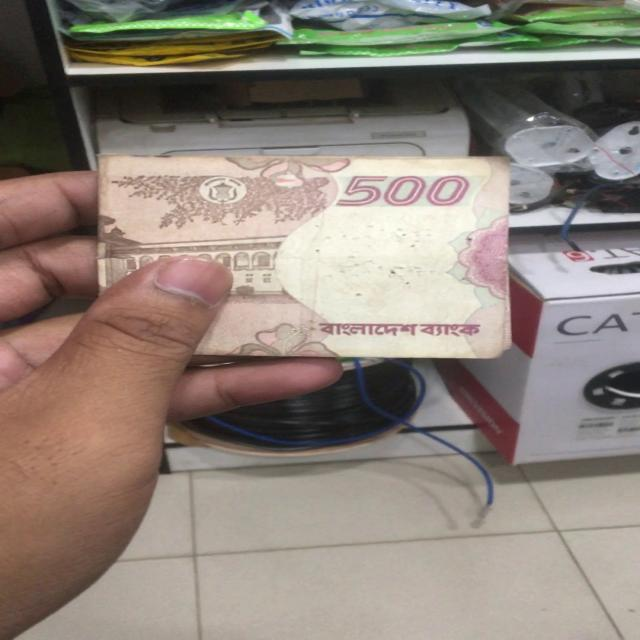Taka: (94, 151, 507, 357)
